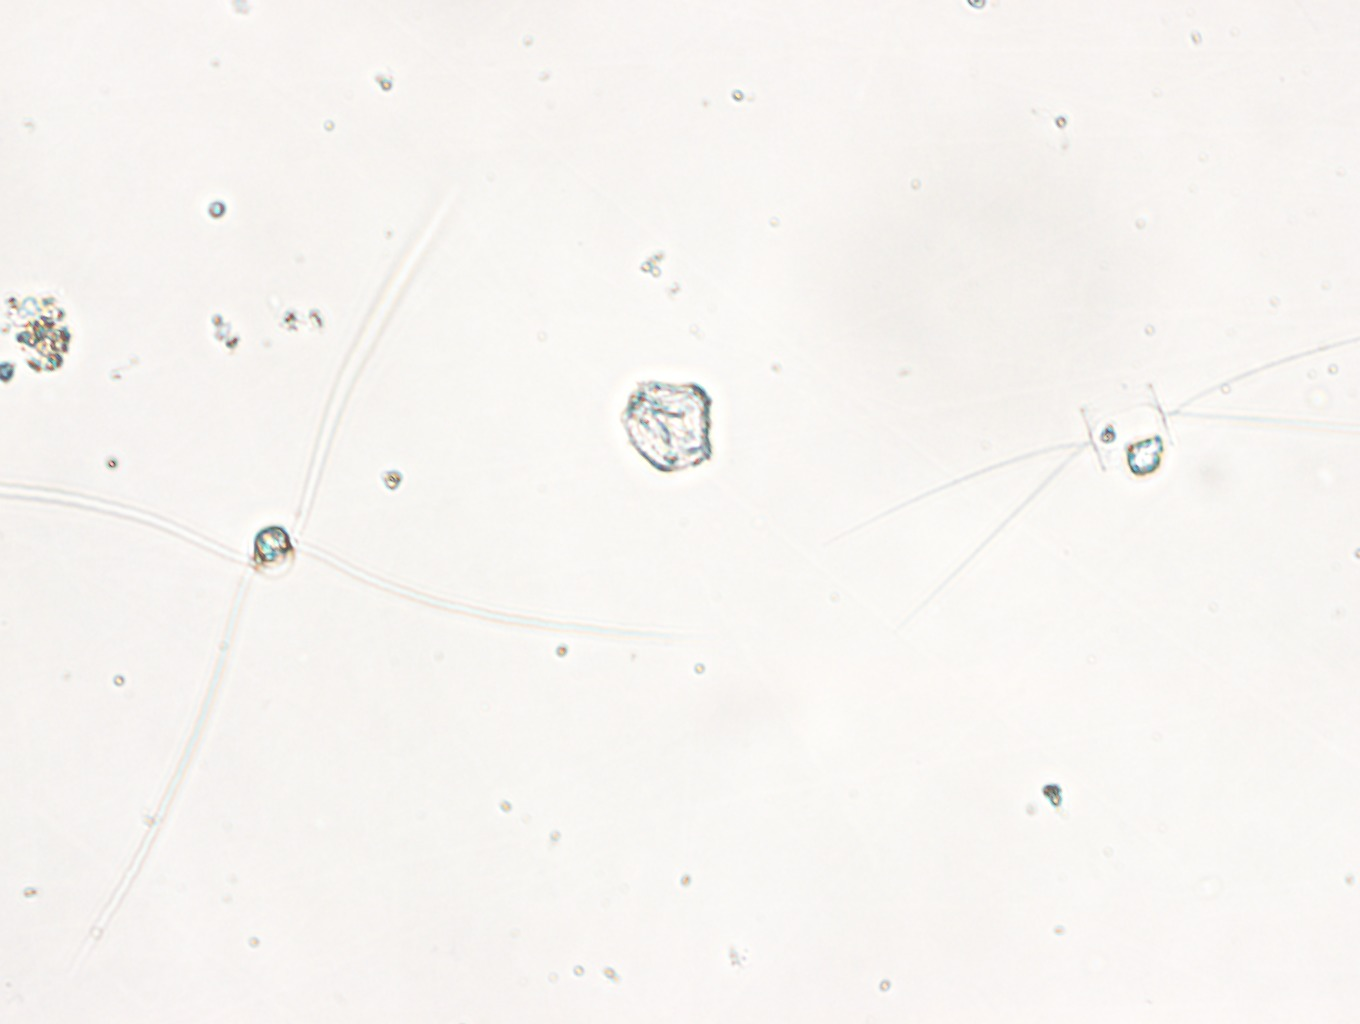chaetoceros: (1, 207, 695, 945), (827, 337, 1360, 629)
